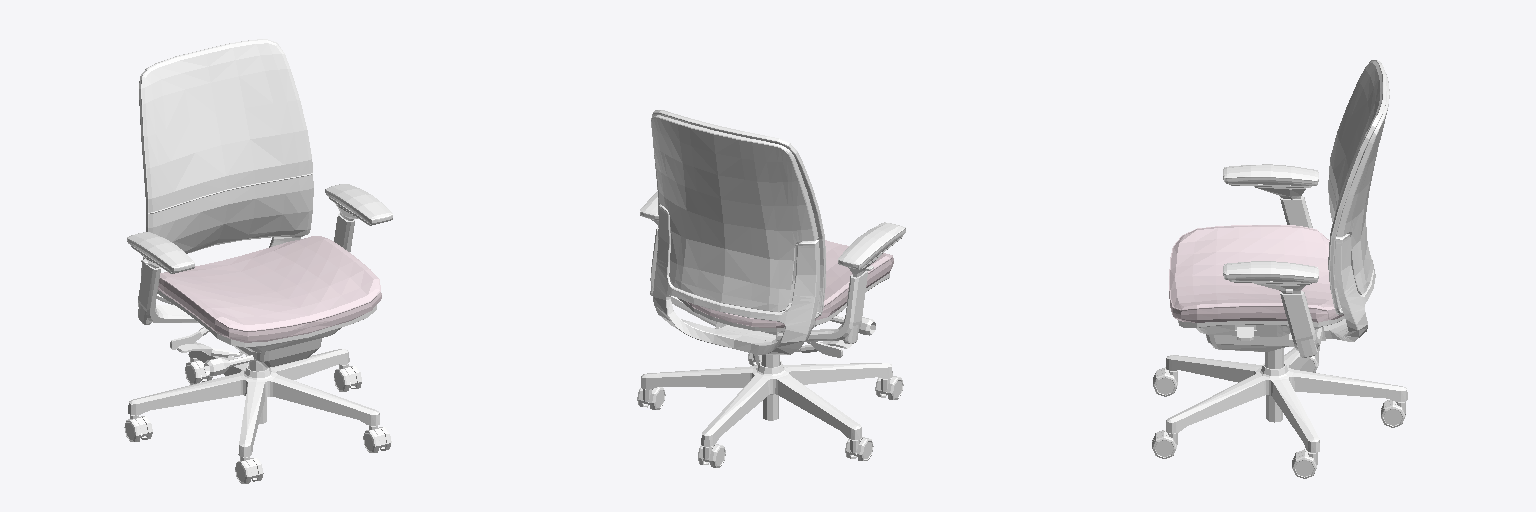
The model's file is chair-test.obj.
The picture shows the model from 3 angles: view 1: azimuth 30°, elevation 25°; view 2: azimuth 150°, elevation 25°; view 3: azimuth 270°, elevation 25°; orthographic projection.
Visible parts, largest first — view 1: Amia_BackS, Amia_SeatS, Amia_Base, Amia_ArmCa, Amia_Frame_Black, Amia_Arms, Amia_Frame, Amia_Cast2, Amia_Cast0, Amia_Caste, Amia_Cast1; view 2: Amia_Frame, Amia_Base, Amia_SeatS, Amia_BackS, Amia_ArmCa, Amia_Arms, Amia_Frame_Black, Amia_Base_Black, Amia_Caste, Amia_Cast0, Amia_Cast3; view 3: Amia_SeatS, Amia_Base, Amia_Frame, Amia_BackS, Amia_ArmCa, Amia_Arms, Amia_Frame_Black, Amia_Arms2, Amia_Frame2, Amia_Base_Black, Amia_Cast2, Amia_Cast1 (+2 smaller).
Boxes of the visible parts, box(x1,y1,x2,y2) form: Amia_BackS: box(139, 39, 313, 258); Amia_SeatS: box(158, 236, 381, 342); Amia_Base: box(128, 342, 379, 457); Amia_ArmCa: box(127, 184, 392, 273); Amia_Frame_Black: box(170, 327, 321, 376); Amia_Arms: box(138, 213, 354, 324); Amia_Frame: box(141, 237, 376, 361); Amia_Cast2: box(334, 364, 361, 391); Amia_Cast0: box(235, 457, 263, 483); Amia_Caste: box(124, 415, 152, 441); Amia_Cast1: box(363, 426, 391, 452); Amia_Frame: box(651, 115, 889, 354); Amia_Base: box(641, 354, 892, 446); Amia_SeatS: box(686, 240, 893, 328); Amia_BackS: box(651, 110, 825, 318); Amia_ArmCa: box(640, 191, 905, 269); Amia_Arms: box(650, 228, 867, 343); Amia_Frame_Black: box(761, 316, 875, 357); Amia_Base_Black: box(762, 355, 779, 420); Amia_Caste: box(845, 437, 873, 460); Amia_Cast0: box(875, 376, 903, 399); Amia_Cast3: box(698, 444, 725, 467); Amia_SeatS: box(1169, 225, 1343, 322); Amia_Base: box(1166, 346, 1407, 452); Amia_Frame: box(1178, 72, 1389, 346); Amia_BackS: box(1328, 60, 1386, 314); Amia_ArmCa: box(1223, 164, 1318, 282); Amia_Arms: box(1280, 196, 1322, 355); Amia_Frame_Black: box(1206, 327, 1293, 351); Amia_Arms2: box(1229, 184, 1311, 293); Amia_Frame2: box(1196, 325, 1320, 336); Amia_Base_Black: box(1265, 348, 1283, 422); Amia_Cast2: box(1292, 449, 1317, 478); Amia_Cast1: box(1152, 430, 1177, 458).
Size of the model in its own units: 26.52 by 37.82 by 26.